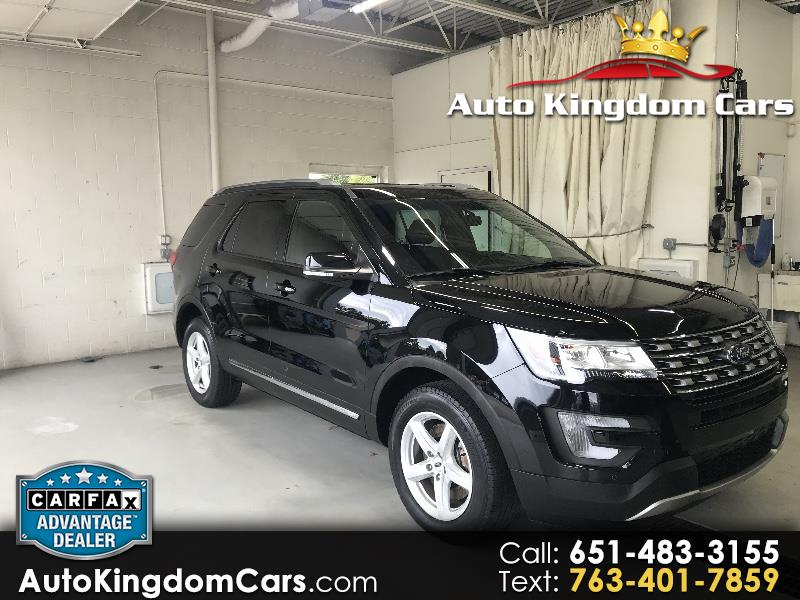Ford Explorer: (171, 180, 790, 553)
